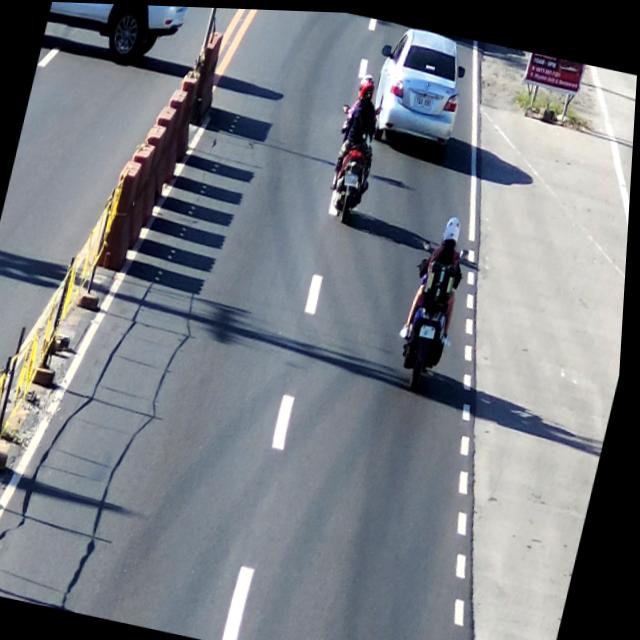Car: (374, 25, 470, 139)
License-Plate: (412, 90, 435, 110), (343, 166, 362, 186), (421, 321, 440, 338)
Motorcycle: (394, 208, 477, 386), (322, 76, 394, 226)
